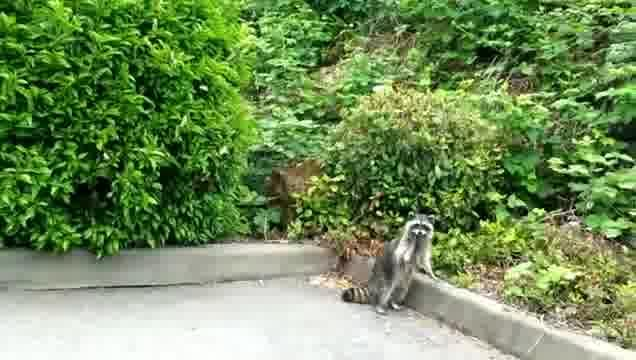raccoon: (341, 212, 437, 315)
